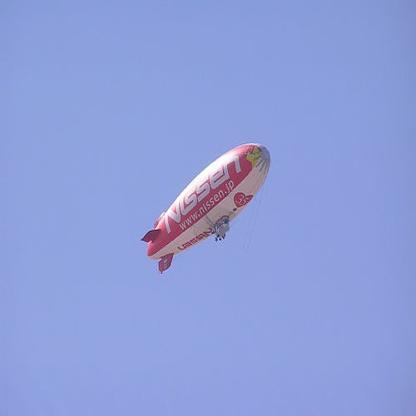Airship: (137, 141, 276, 279)
